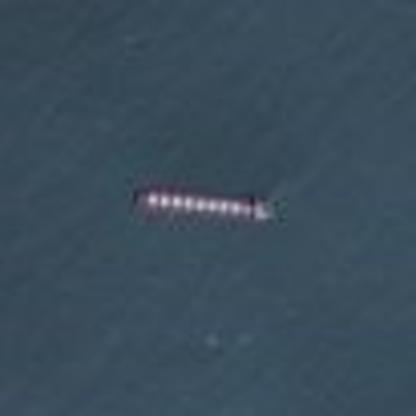ship: (126, 178, 282, 230)
